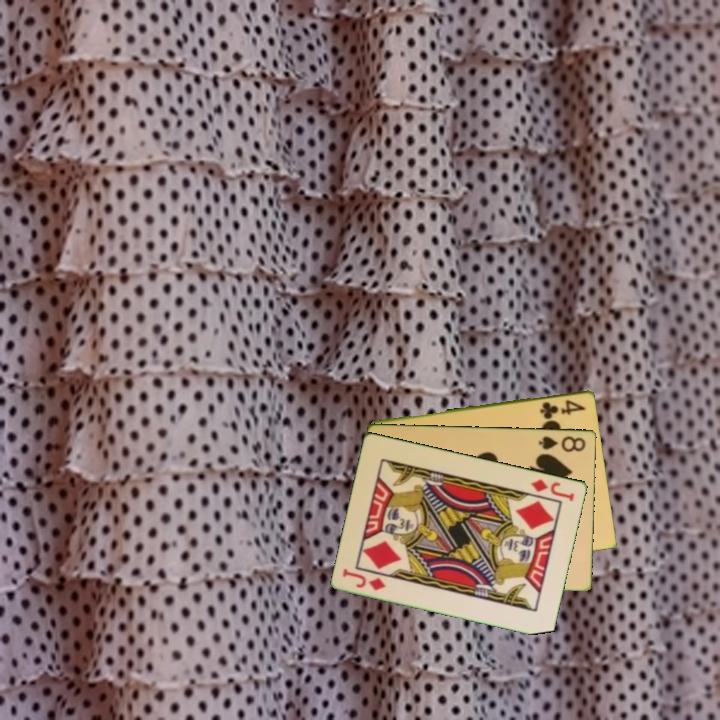4c: (537, 396, 588, 421)
8s: (536, 432, 589, 454)
Jd: (339, 565, 389, 594), (528, 475, 577, 504)
